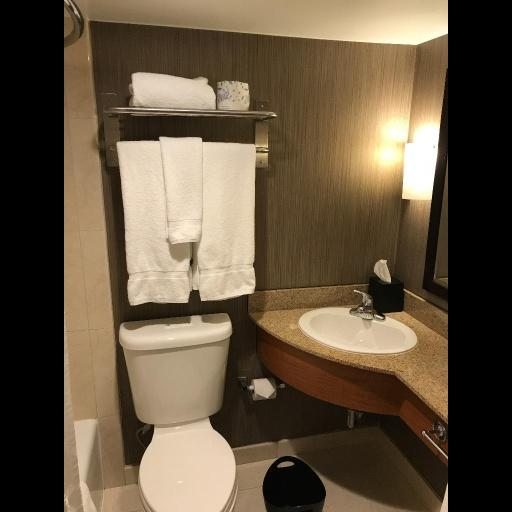clean_sink: (245, 279, 451, 464)
clean_toilet: (113, 314, 256, 512)
folded_towel: (117, 139, 258, 305), (127, 75, 217, 115)
